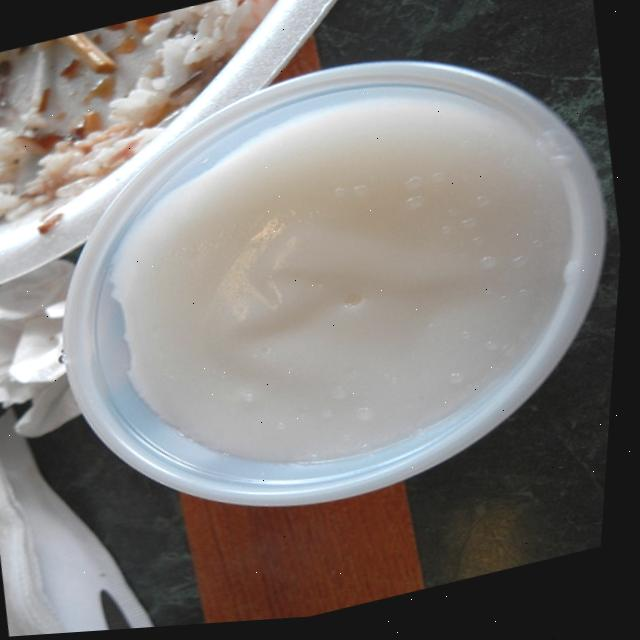蛋糕甜品: (0, 0, 639, 600)
